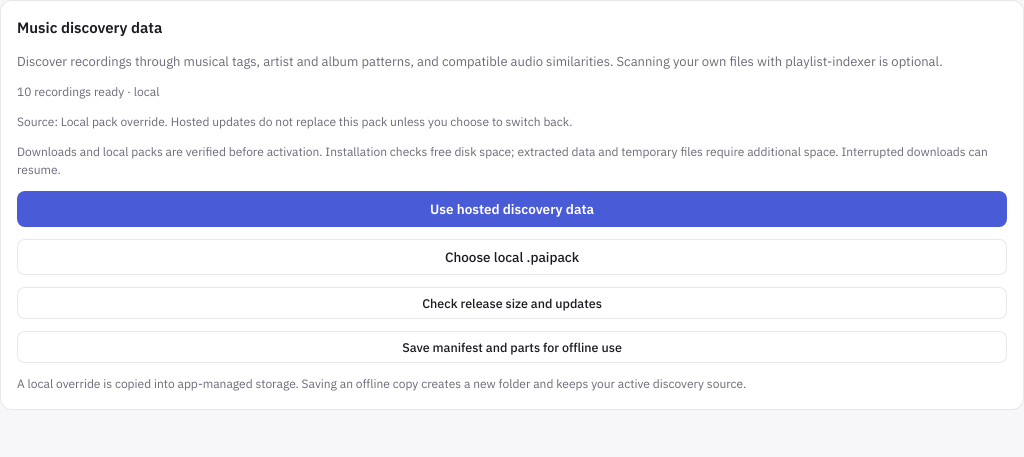
Test case: saves an offline manifest and parts without activating a new source
Click the button "Save manifest and parts for offline use" at (512, 347), box top-left (17, 331), bottom-right (1007, 363)
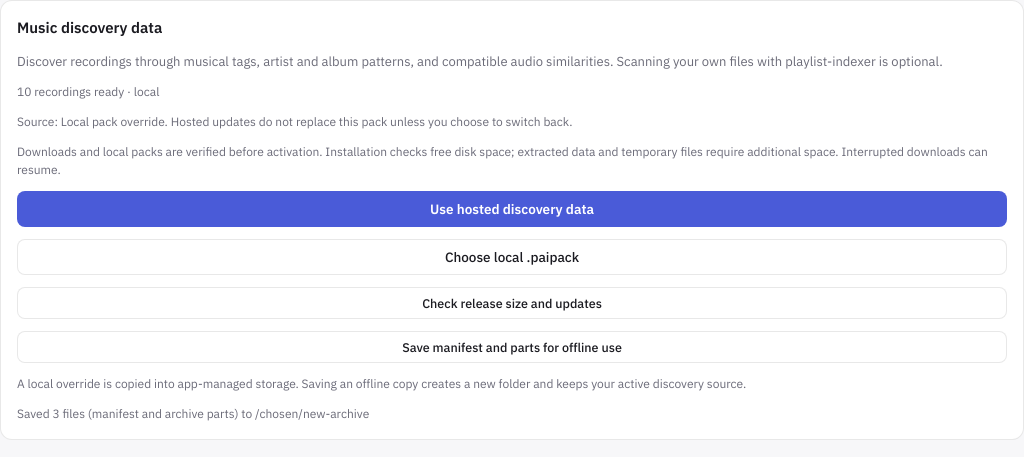
Expected: the text "10 recordings ready · local" is shown, top-left (17, 84), bottom-right (160, 99)
Now the text "Saved 3 files (manifest and archive parts) to /chosen/new-archive" is shown, box top-left (17, 406), bottom-right (369, 421)
